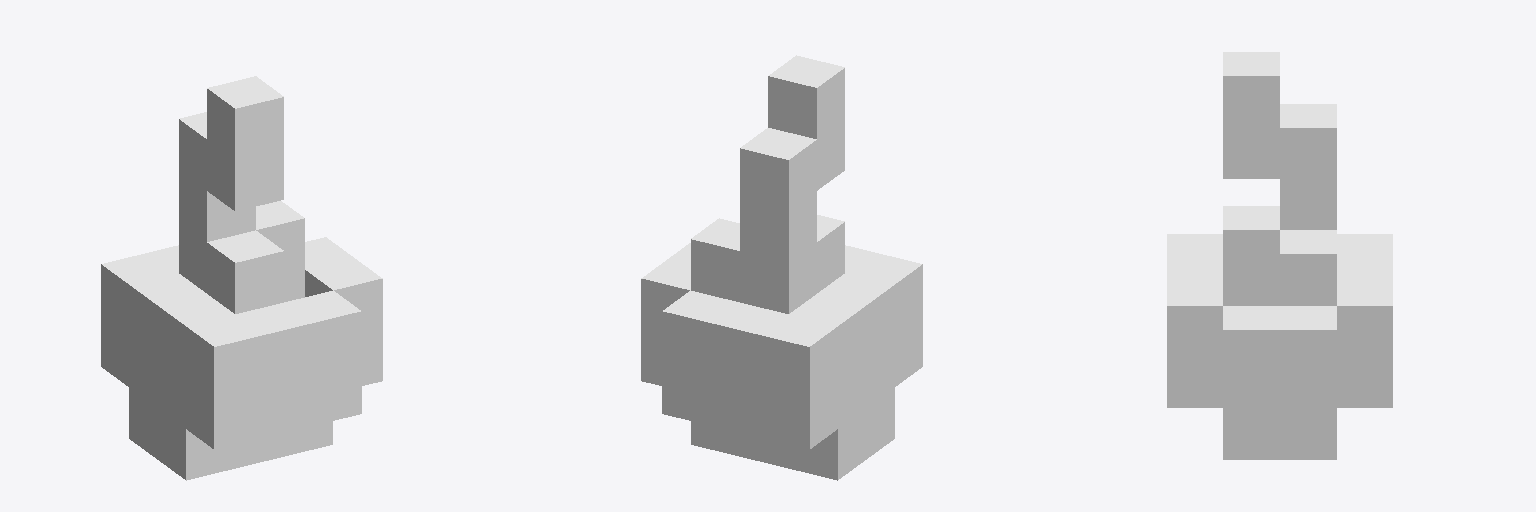
File: vox-23-Torch_02.obj
The picture shows the model from 3 angles: view 1: azimuth 30°, elevation 25°; view 2: azimuth 150°, elevation 25°; view 3: azimuth 270°, elevation 25°; orthographic projection.
Visible parts, largest first — view 1: Torch_02; view 2: Torch_02; view 3: Torch_02.
Boxes of the visible parts, x1,y1,x2,y2 form: Torch_02: [101, 76, 382, 480]; Torch_02: [641, 55, 922, 480]; Torch_02: [1167, 52, 1392, 459].
Size of the model in its own units: 0.4 by 0.7 by 0.4.